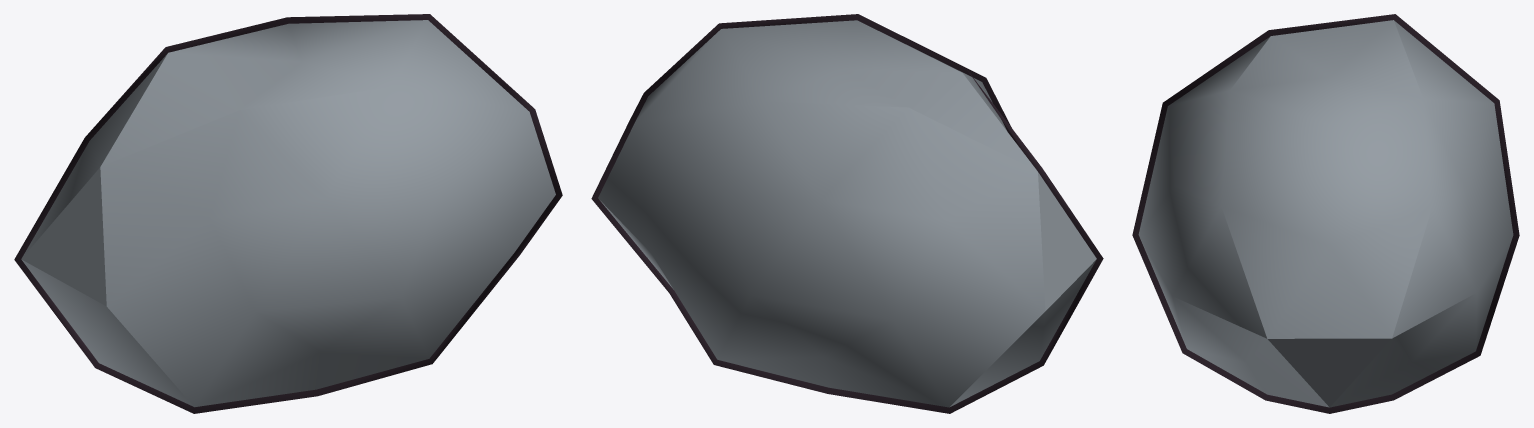
File: SM_Island_Rock_Medium.fbx
3 renders of one model, left to right at view 1: azimuth 30°, elevation 25°; view 2: azimuth 150°, elevation 25°; view 3: azimuth 270°, elevation 25°, orthographic. The views are drawn at different scales.
Visible parts, largest first — view 1: SM_Island_Rock_Medium, SM_Island_Rock_Medium_Outline; view 2: SM_Island_Rock_Medium, SM_Island_Rock_Medium_Outline; view 3: SM_Island_Rock_Medium, SM_Island_Rock_Medium_Outline.
Boxes of the visible parts, left/top/right/bottom form: SM_Island_Rock_Medium: left=21, top=20, right=555, bottom=407; SM_Island_Rock_Medium_Outline: left=14, top=14, right=562, bottom=413; SM_Island_Rock_Medium: left=598, top=20, right=1096, bottom=407; SM_Island_Rock_Medium_Outline: left=591, top=14, right=1103, bottom=413; SM_Island_Rock_Medium: left=1138, top=20, right=1513, bottom=407; SM_Island_Rock_Medium_Outline: left=1132, top=14, right=1519, bottom=413.
Bounding box in the file's own units: 1.16 × 0.7015 × 0.8412.
Materials: 2 (1 with a texture image).
